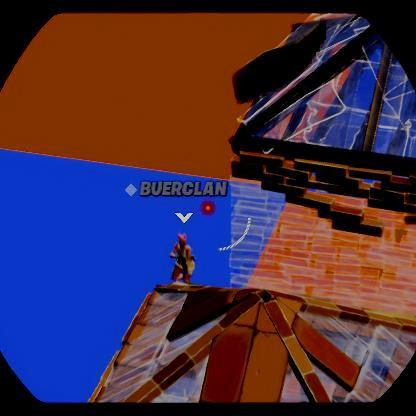person: (171, 236, 202, 277)
